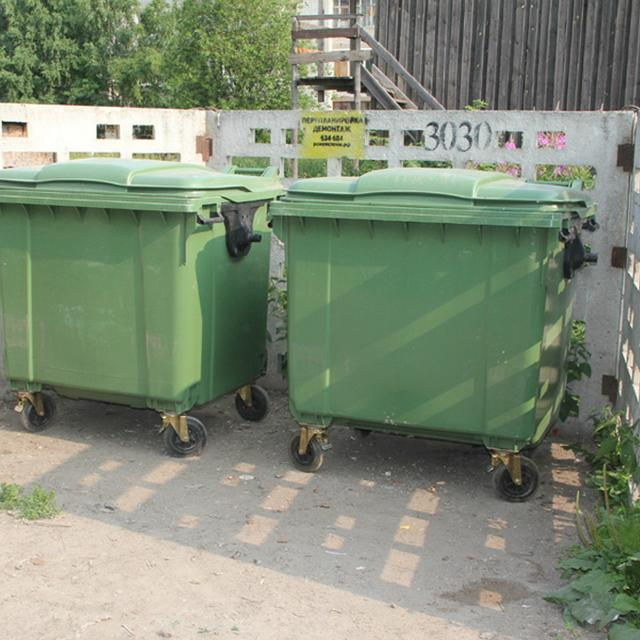Trash_Can_Closed: (269, 166, 600, 449), (0, 156, 285, 411)
